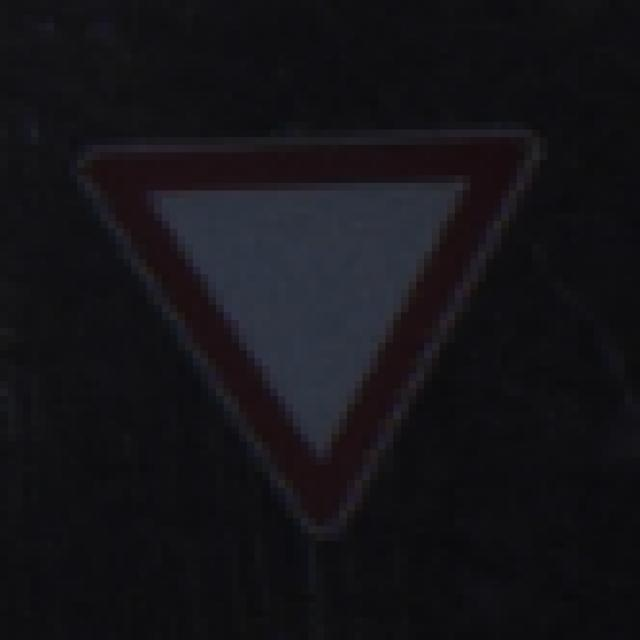Give Way: (55, 62, 587, 588)
